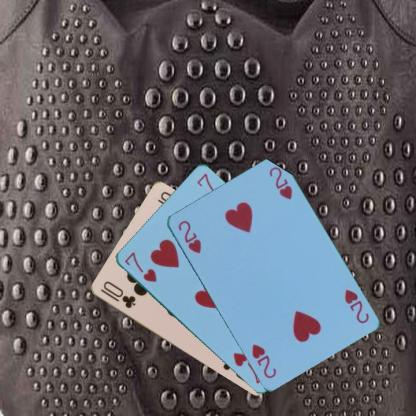10c: (97, 278, 137, 310)
2h: (341, 285, 370, 325), (175, 217, 202, 255)
7h: (121, 249, 158, 284)
